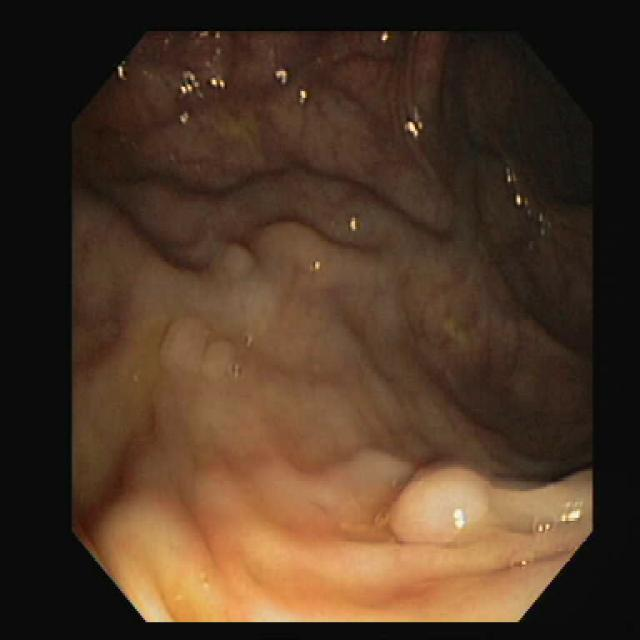tumor: (388, 464, 502, 540), (215, 222, 332, 282), (162, 318, 237, 378)
